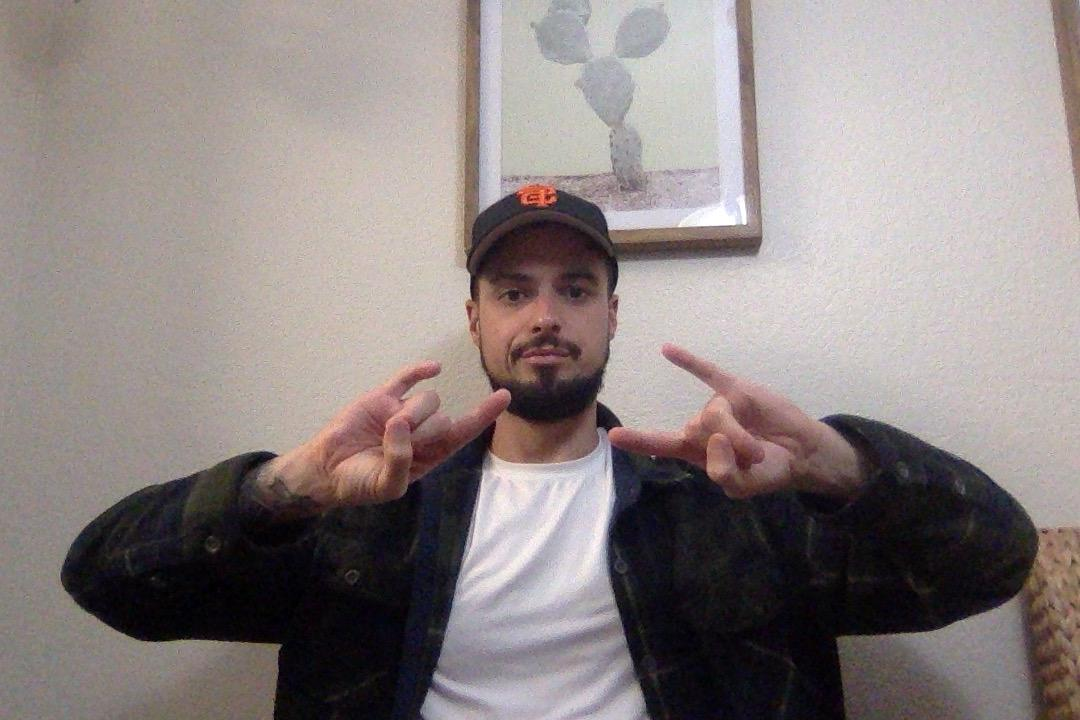Rock: (292, 343, 513, 522), (603, 342, 820, 502)
